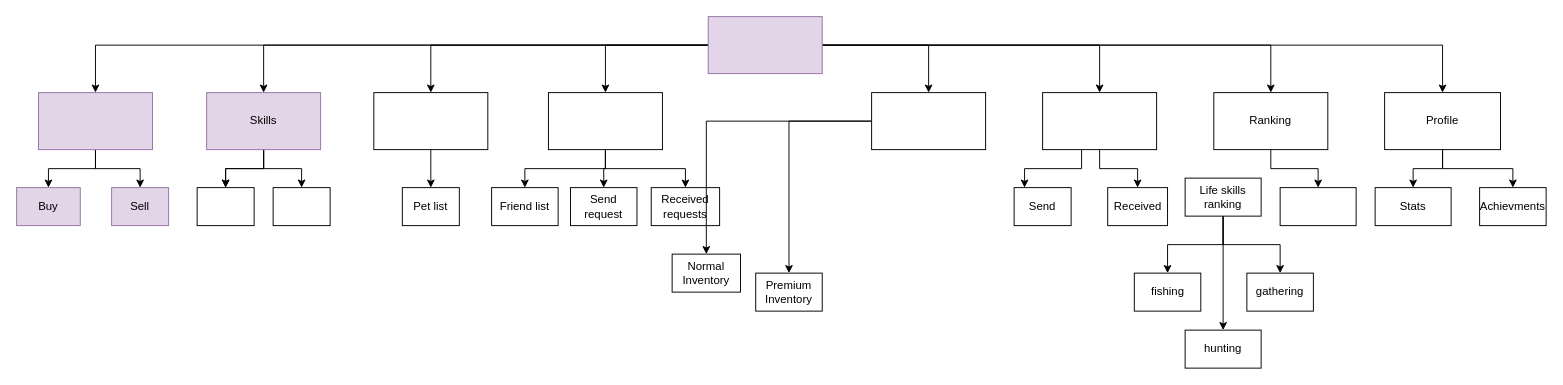
This 1563x385 diagram has some shape labels left out. Each missing label, with the box of its shape:
Awekening Skills: (272, 187, 330, 226)
Central Market: (38, 92, 152, 150)
Combat ranking: (1279, 187, 1356, 226)
Friends: (547, 92, 662, 150)
Inventory: (871, 92, 986, 150)
Mail: (1042, 92, 1157, 150)
Main menu (Esc): (707, 16, 822, 74)
Pets: (373, 92, 488, 150)
Regular Skills: (196, 187, 254, 226)
